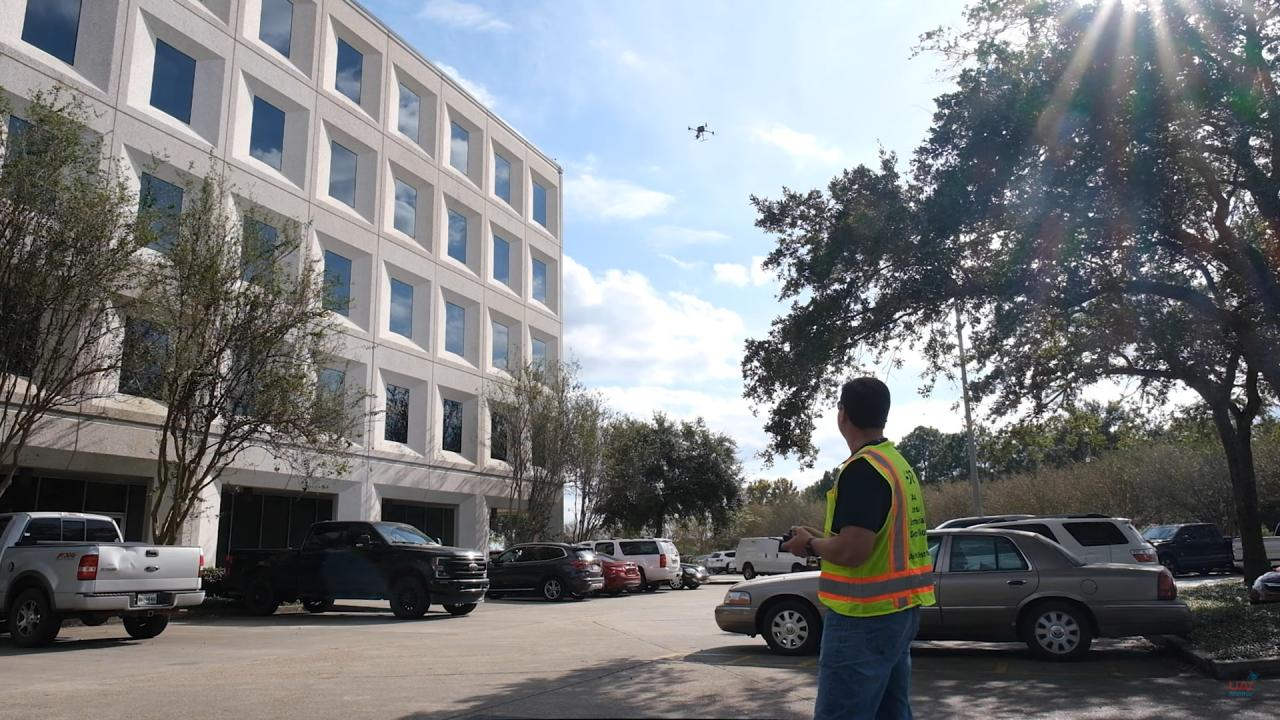Drone: (679, 113, 723, 149)
